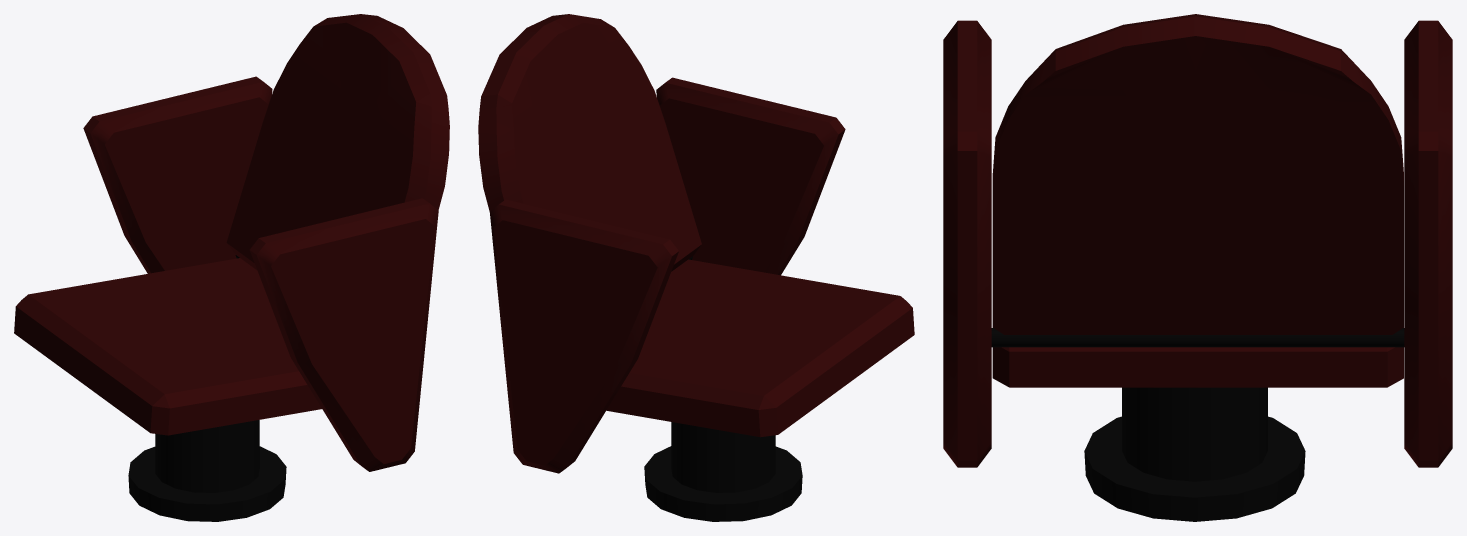
File: Theatre Chair.FBX
3 views of the same model, side by side, from view 1: azimuth 30°, elevation 25°; view 2: azimuth 150°, elevation 25°; view 3: azimuth 270°, elevation 25° (orthographic). The views are drawn at different scales.
Visible parts, largest first — view 1: Theatre Chair Base, Theatre Chair, Chair Arm Rest001, Chair Arm Rest, Chair Stand; view 2: Theatre Chair Base, Theatre Chair, Chair Arm Rest, Chair Arm Rest001, Chair Stand; view 3: Theatre Chair, Chair Stand, Chair Arm Rest001, Chair Arm Rest, Theatre Chair Base, Theatre Chair Bolt.
Part boxes in pixels (x1,y1,x2,y2): Theatre Chair Base: (14,258,321,435); Theatre Chair: (226,14,449,269); Chair Arm Rest001: (249,198,438,471); Chair Arm Rest: (83,76,272,273); Chair Stand: (128,420,286,521); Theatre Chair Base: (606,259,914,437); Theatre Chair: (478,14,701,271); Chair Arm Rest: (489,199,678,473); Chair Arm Rest001: (656,77,845,275); Chair Stand: (644,422,802,521); Theatre Chair: (992,14,1403,334); Chair Stand: (1084,387,1305,521); Chair Arm Rest001: (943,20,991,467); Chair Arm Rest: (1404,20,1452,467); Theatre Chair Base: (992,327,1403,387); Theatre Chair Bolt: (991,328,1404,347).
Bounding box in the file's own units: 1.06 × 1.32 × 1.05.
